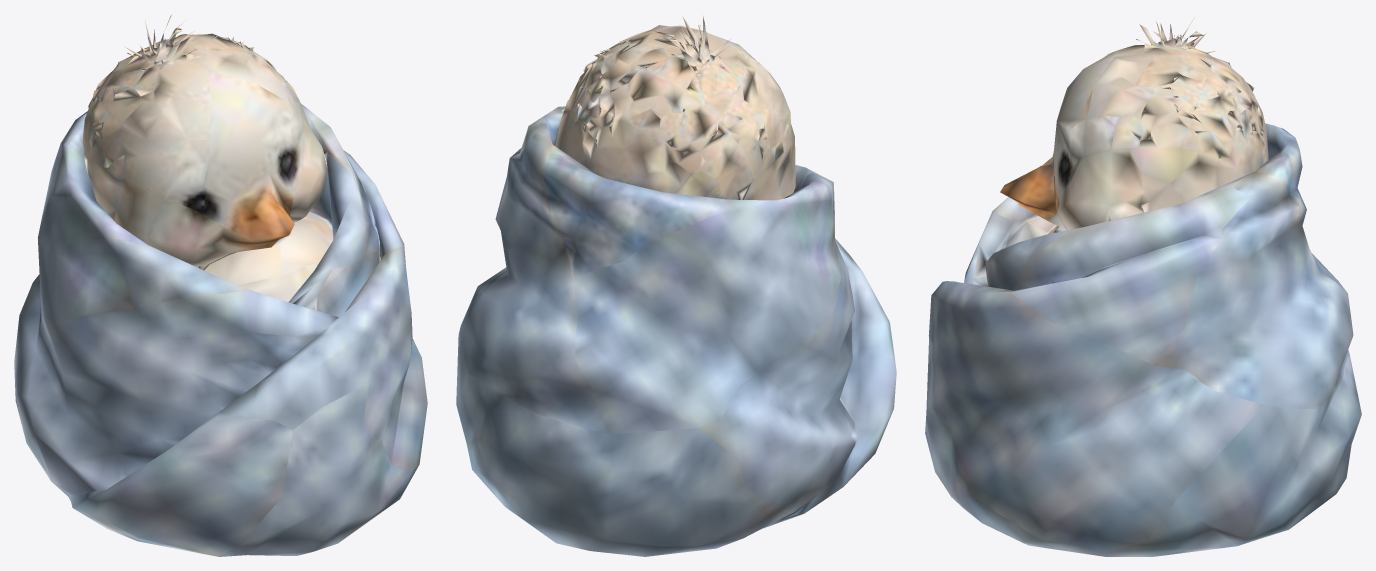
3 renders of one model, left to right at view 1: azimuth 30°, elevation 25°; view 2: azimuth 150°, elevation 25°; view 3: azimuth 270°, elevation 25°, orthographic. The views are drawn at different scales.
Size of the model in its own units: 0.4702 by 0.604 by 0.5177.
Materials: 1 (1 with a texture image).
